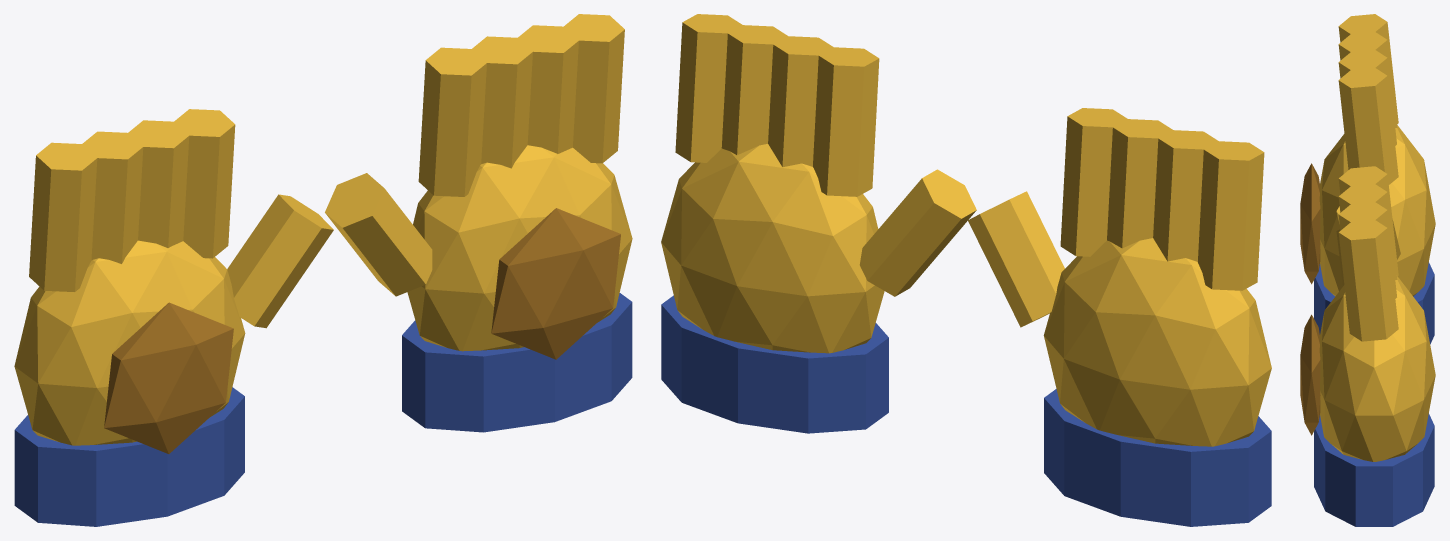
File: GrabbingGloves.fbx
3 renders of one model, left to right at view 1: azimuth 30°, elevation 25°; view 2: azimuth 150°, elevation 25°; view 3: azimuth 270°, elevation 25°, orthographic. The views are drawn at different scales.
Visible parts, largest first — view 1: Glove, Cuff, Grip; view 2: Glove, Cuff; view 3: Glove, Cuff, Grip.
Boxes of the visible parts, box(x1,y1,x2,y2) form: Glove: box(14, 14, 632, 445); Cuff: box(14, 293, 632, 526); Grip: box(104, 208, 620, 453); Glove: box(661, 14, 1271, 446); Cuff: box(661, 295, 1271, 526); Glove: box(1319, 14, 1435, 461); Cuff: box(1314, 262, 1434, 526); Grip: box(1300, 163, 1320, 435).
Bounding box in the file's own units: 2.46 × 1.41 × 0.606.
